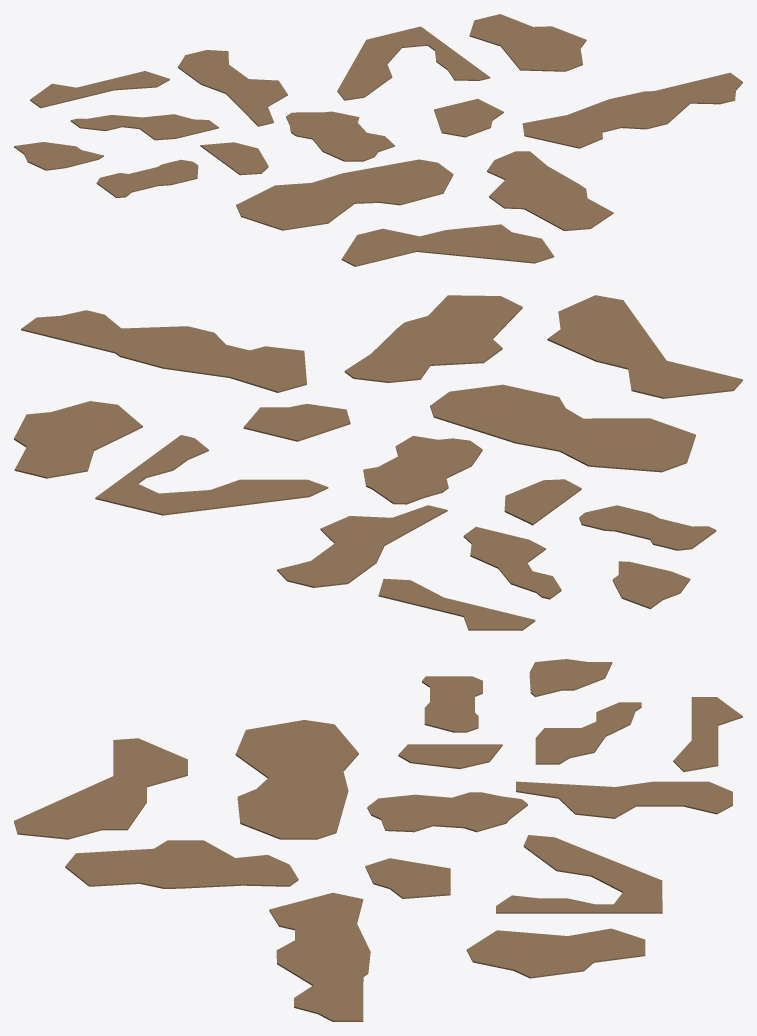
File: GROUP_PLESEN.fbx
3 views of the same model, one above another, from view 1: azimuth 30°, elevation 25°; view 2: azimuth 150°, elevation 25°; view 3: azimuth 270°, elevation 25° (orthographic). The views are drawn at different scales.
Visible parts, largest first — view 1: PLESEN_5_1, PLESEN_12_1, PLESEN_15_1, PLESEN_14_1, PLESEN_9_1, PLESEN_7_1, PLESEN_6_1, PLESEN_1_1, PLESEN_4_1, PLESEN_3_1, PLESEN_8_1, PLESEN_13_1 (+2 smaller); view 2: PLESEN_5_1, PLESEN_12_1, PLESEN_14_1, PLESEN_15_1, PLESEN_9_1, PLESEN_7_1, PLESEN_6_1, PLESEN_1_1, PLESEN_4_1, PLESEN_3_1, PLESEN_8_1, PLESEN_13_1 (+2 smaller); view 3: PLESEN_5_1, PLESEN_12_1, PLESEN_14_1, PLESEN_15_1, PLESEN_9_1, PLESEN_7_1, PLESEN_6_1, PLESEN_1_1, PLESEN_4_1, PLESEN_3_1, PLESEN_8_1, PLESEN_13_1 (+2 smaller).
Boxes of the visible parts, x1,y1,x2,y2 form: PLESEN_5_1: (236, 159, 453, 230); PLESEN_12_1: (522, 72, 742, 148); PLESEN_15_1: (341, 224, 554, 266); PLESEN_14_1: (487, 151, 613, 230); PLESEN_9_1: (337, 26, 490, 100); PLESEN_7_1: (469, 14, 586, 71); PLESEN_6_1: (178, 50, 287, 126); PLESEN_1_1: (286, 111, 394, 161); PLESEN_4_1: (70, 114, 218, 140); PLESEN_3_1: (96, 159, 198, 198); PLESEN_8_1: (30, 71, 169, 108); PLESEN_13_1: (434, 98, 503, 137); PLESEN_5_1: (430, 384, 695, 472); PLESEN_12_1: (21, 310, 306, 392); PLESEN_14_1: (344, 295, 522, 382); PLESEN_15_1: (547, 295, 742, 398); PLESEN_9_1: (95, 435, 328, 515); PLESEN_7_1: (14, 401, 142, 478); PLESEN_6_1: (277, 505, 447, 587); PLESEN_1_1: (363, 436, 482, 504); PLESEN_4_1: (463, 527, 561, 599); PLESEN_3_1: (579, 505, 716, 550); PLESEN_8_1: (378, 578, 535, 630); PLESEN_13_1: (243, 404, 350, 441); PLESEN_5_1: (235, 720, 358, 839); PLESEN_12_1: (269, 892, 370, 1021); PLESEN_14_1: (65, 840, 298, 888); PLESEN_15_1: (14, 738, 187, 839); PLESEN_9_1: (496, 835, 662, 913); PLESEN_7_1: (466, 928, 645, 978); PLESEN_6_1: (516, 781, 732, 818); PLESEN_1_1: (367, 792, 527, 832); PLESEN_4_1: (535, 702, 641, 764); PLESEN_3_1: (422, 676, 482, 732); PLESEN_8_1: (673, 697, 742, 771); PLESEN_13_1: (365, 858, 450, 898).
Size of the model in its own units: 28.27 by 0.05 by 24.08.
